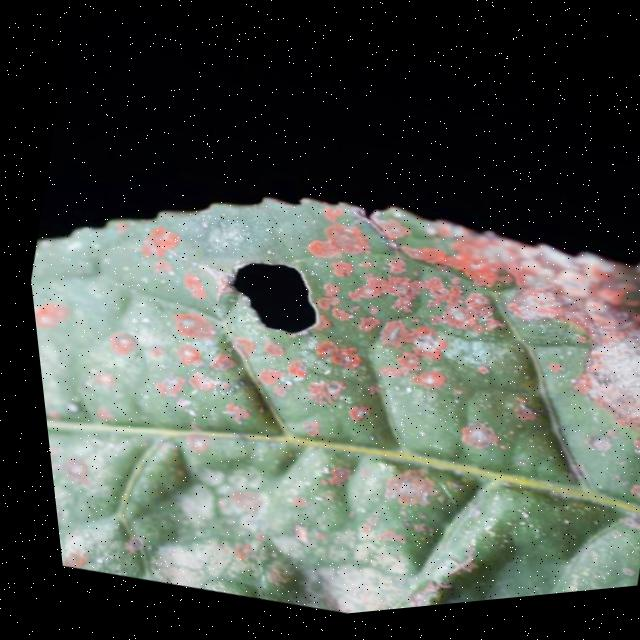Tea red rust: (14, 107, 640, 640)
